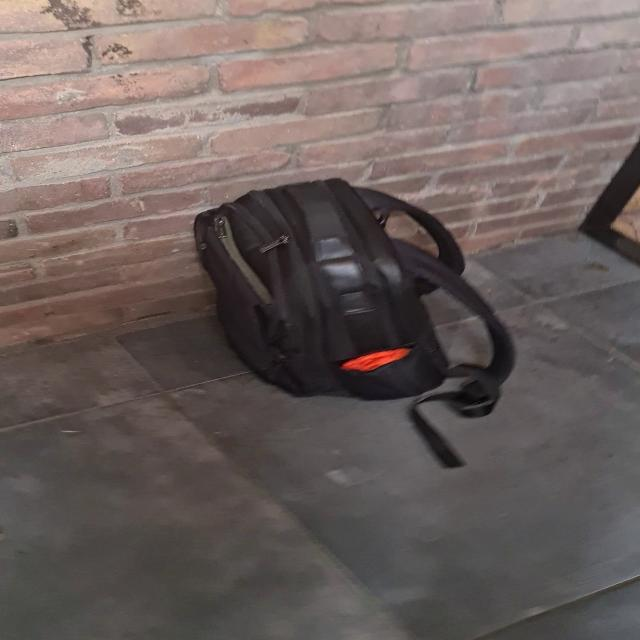backpack: (175, 170, 513, 409)
